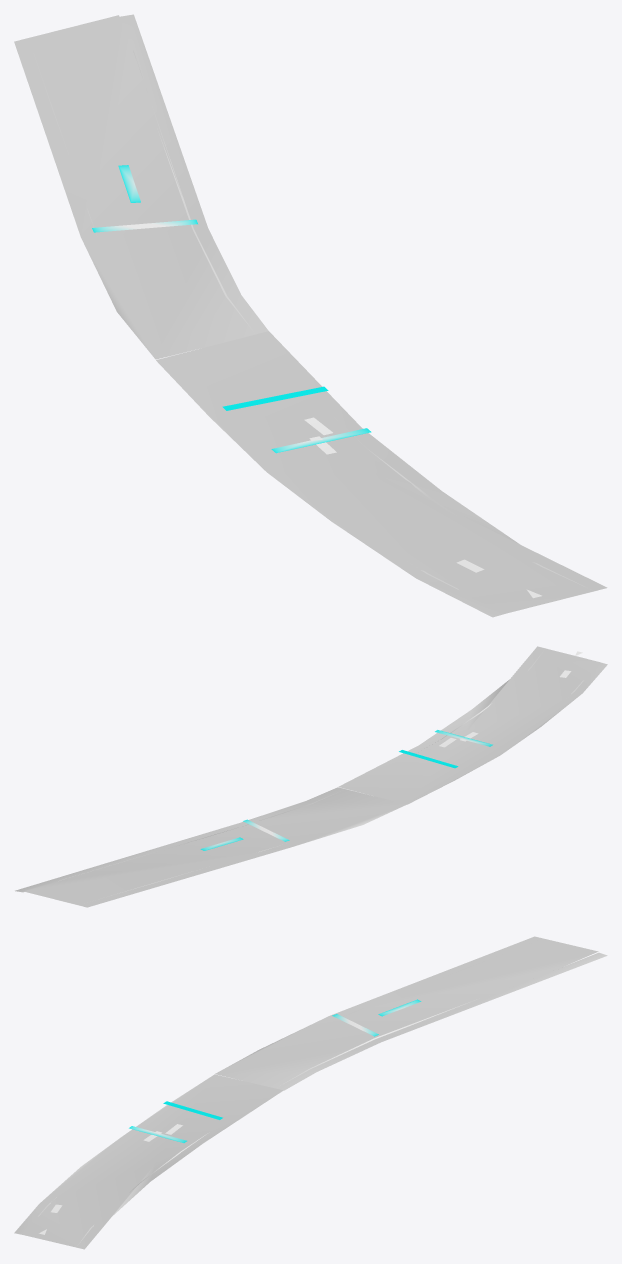
File: cell_74_50.fbx
The picture shows the model from 3 angles, top to bottom: view 1: azimuth 30°, elevation 25°; view 2: azimuth 150°, elevation 25°; view 3: azimuth 330°, elevation 25°; orthographic projection. The views are drawn at different scales.
Visible parts, largest first — view 1: SpaceCenter_Long3_GenerateRoad_Asphalt_Mesh_x92_y63_14599_HD, SpaceCenter_Long3_GenerateRoad_Asphalt_Mesh_x93_y63_14757_HD, SpaceCenter_Long3_GenerateRoad_Asphalt_PCGMesh_Decal_Mesh_x9 (×2); view 2: SpaceCenter_Long3_GenerateRoad_Asphalt_Mesh_x92_y63_14599_HD, SpaceCenter_Long3_GenerateRoad_Asphalt_Mesh_x93_y63_14757_HD, SpaceCenter_Long3_GenerateRoad_Asphalt_PCGMesh_Decal_Mesh_x9; view 3: SpaceCenter_Long3_GenerateRoad_Asphalt_Mesh_x92_y63_14599_HD, SpaceCenter_Long3_GenerateRoad_Asphalt_Mesh_x93_y63_14757_HD, SpaceCenter_Long3_GenerateRoad_Asphalt_PCGMesh_Decal_Mesh_x9.
Boxes of the visible parts, left/top/right/bottom form: SpaceCenter_Long3_GenerateRoad_Asphalt_Mesh_x92_y63_14599_HD: left=14, top=14, right=268, bottom=359; SpaceCenter_Long3_GenerateRoad_Asphalt_Mesh_x93_y63_14757_HD: left=156, top=331, right=607, bottom=617; SpaceCenter_Long3_GenerateRoad_Asphalt_PCGMesh_Decal_Mesh_x9 (×2): left=92, top=165, right=371, bottom=453; SpaceCenter_Long3_GenerateRoad_Asphalt_Mesh_x92_y63_14599_HD: left=15, top=787, right=406, bottom=907; SpaceCenter_Long3_GenerateRoad_Asphalt_Mesh_x93_y63_14757_HD: left=338, top=646, right=607, bottom=804; SpaceCenter_Long3_GenerateRoad_Asphalt_PCGMesh_Decal_Mesh_x9: left=399, top=730, right=492, bottom=768; SpaceCenter_Long3_GenerateRoad_Asphalt_Mesh_x92_y63_14599_HD: left=215, top=936, right=607, bottom=1090; SpaceCenter_Long3_GenerateRoad_Asphalt_Mesh_x93_y63_14757_HD: left=14, top=1074, right=283, bottom=1249; SpaceCenter_Long3_GenerateRoad_Asphalt_PCGMesh_Decal_Mesh_x9: left=129, top=1101, right=222, bottom=1142.
Size of the model in its own units: 36.91 by 4.76 by 128.
